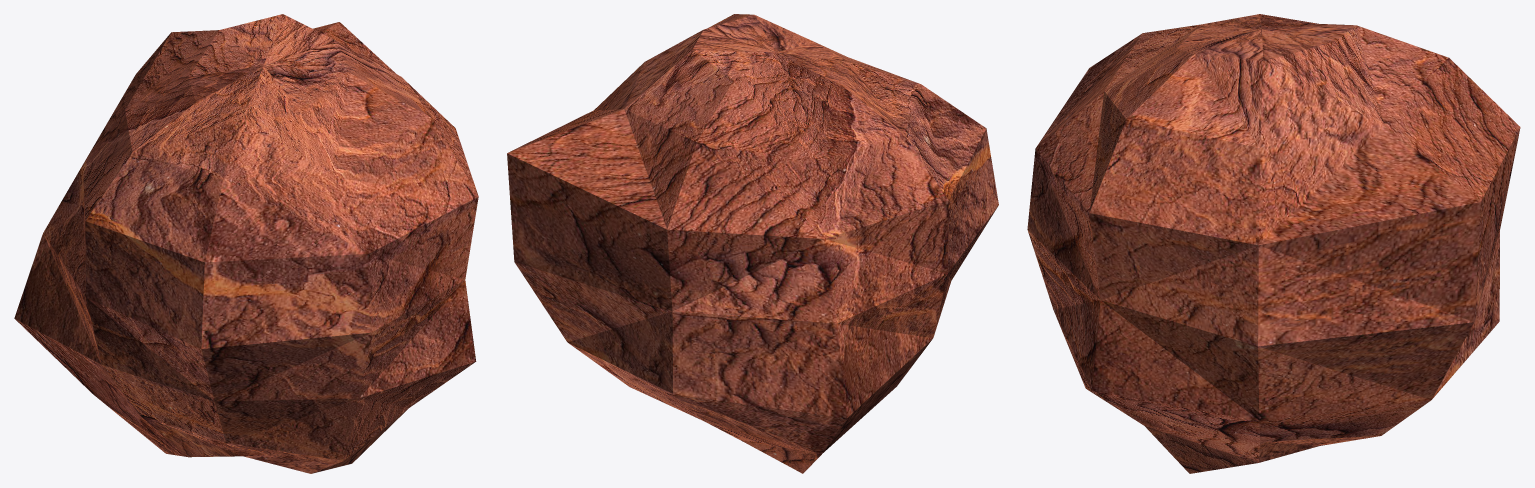
File: asteroid.obj
The picture shows the model from 3 angles, left to right: view 1: azimuth 30°, elevation 25°; view 2: azimuth 150°, elevation 25°; view 3: azimuth 270°, elevation 25°; orthographic projection. The views are drawn at different scales.
Visible parts, largest first — view 1: Sphere; view 2: Sphere; view 3: Sphere.
Boxes of the visible parts, <box> form: Sphere: <box>14,14,478,473</box>; Sphere: <box>507,14,998,473</box>; Sphere: <box>1027,14,1520,473</box>.
Bounding box in the file's own units: 2.23 × 2.25 × 2.27.
